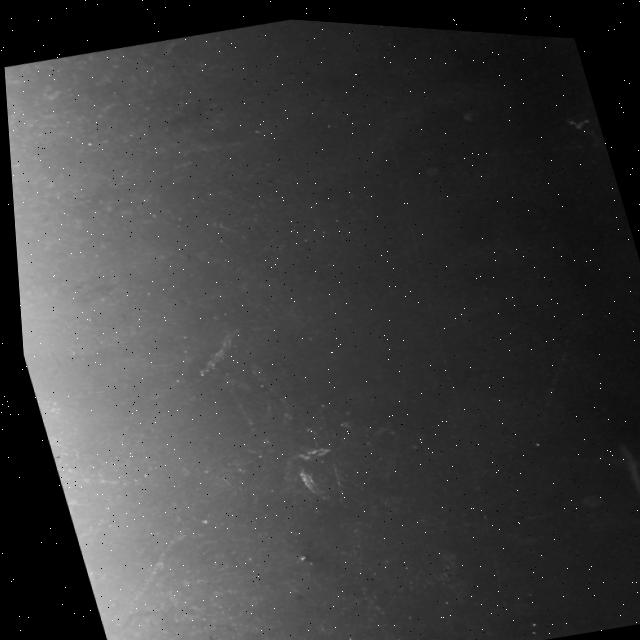beta: (71, 525, 196, 640), (52, 422, 167, 547), (438, 112, 606, 174), (511, 323, 589, 418), (220, 377, 256, 434), (287, 438, 329, 459), (204, 212, 240, 236), (560, 102, 594, 125)
